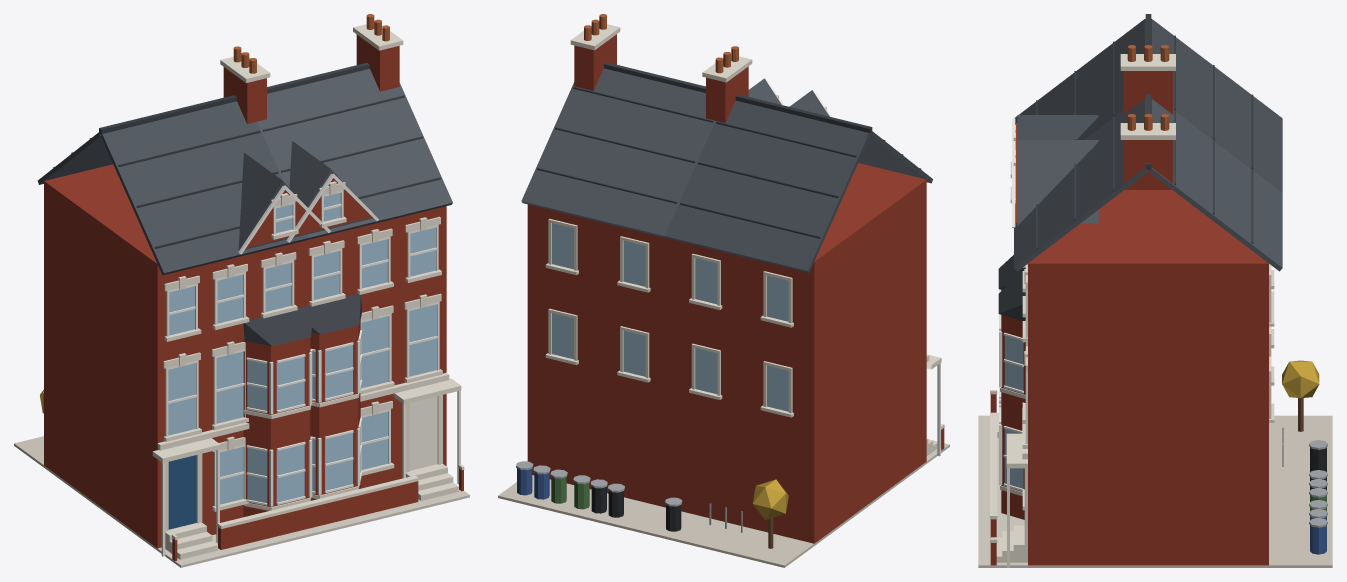
Rendered from Blok_duz_3k_2_Hafif.fbx.
3 views of the same model, side by side, from view 1: azimuth 30°, elevation 25°; view 2: azimuth 150°, elevation 25°; view 3: azimuth 270°, elevation 25° (orthographic). The views are drawn at different scales.
Parts seen in each view (by area): view 1: Blok_duz_3k_2_Hafif; view 2: Blok_duz_3k_2_Hafif; view 3: Blok_duz_3k_2_Hafif.
Boxes of the visible parts, x1,y1,x2,y2 form: Blok_duz_3k_2_Hafif: (14,14,469,567); Blok_duz_3k_2_Hafif: (498,14,949,567); Blok_duz_3k_2_Hafif: (978,14,1332,567).
Size of the model in its own units: 10.33 by 13.9 by 10.
